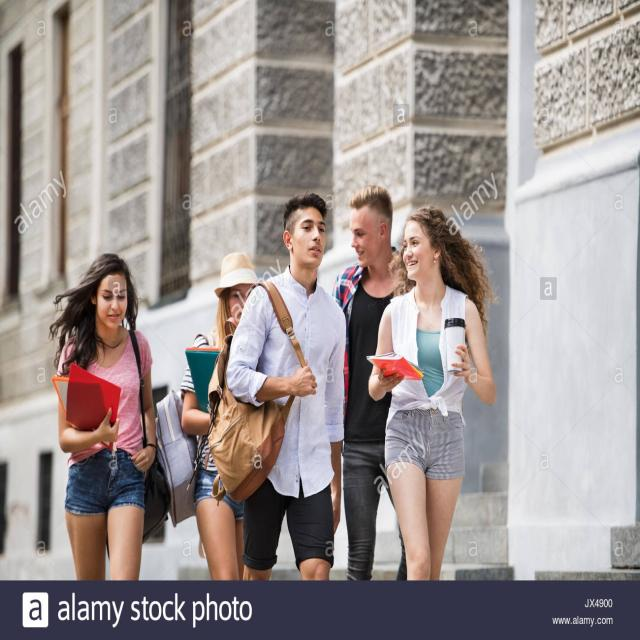body: (204, 190, 348, 579), (363, 202, 499, 581), (328, 181, 418, 582), (154, 251, 262, 582), (55, 251, 159, 581)
